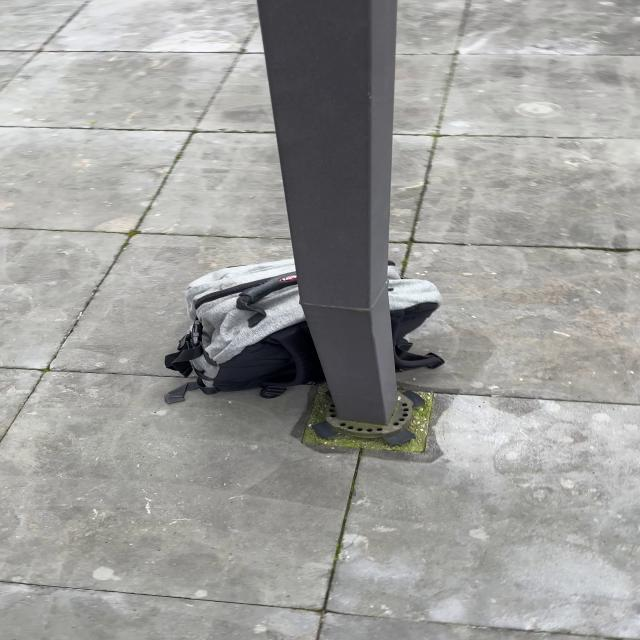backpack: (163, 256, 447, 403)
